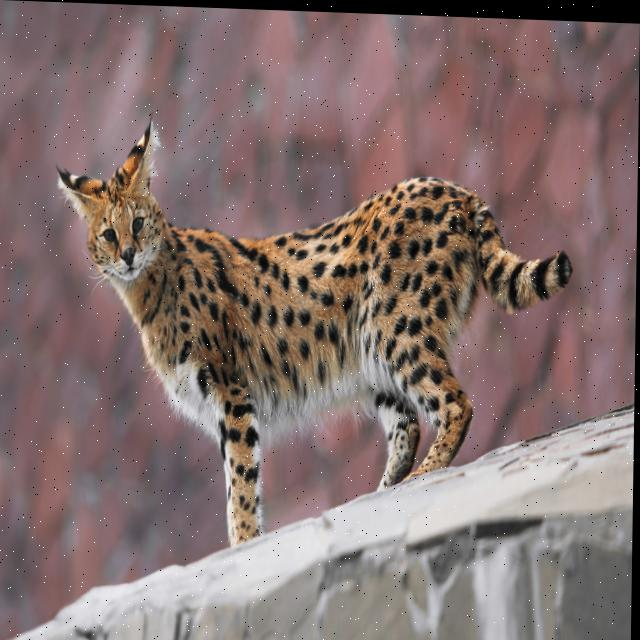Savannah: (50, 103, 579, 564)
